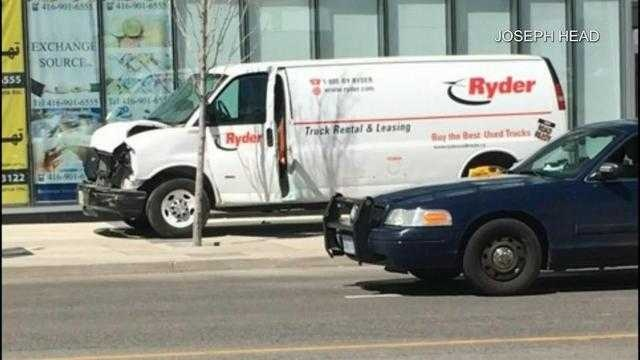car: (323, 118, 640, 297)
van: (79, 52, 568, 238)
